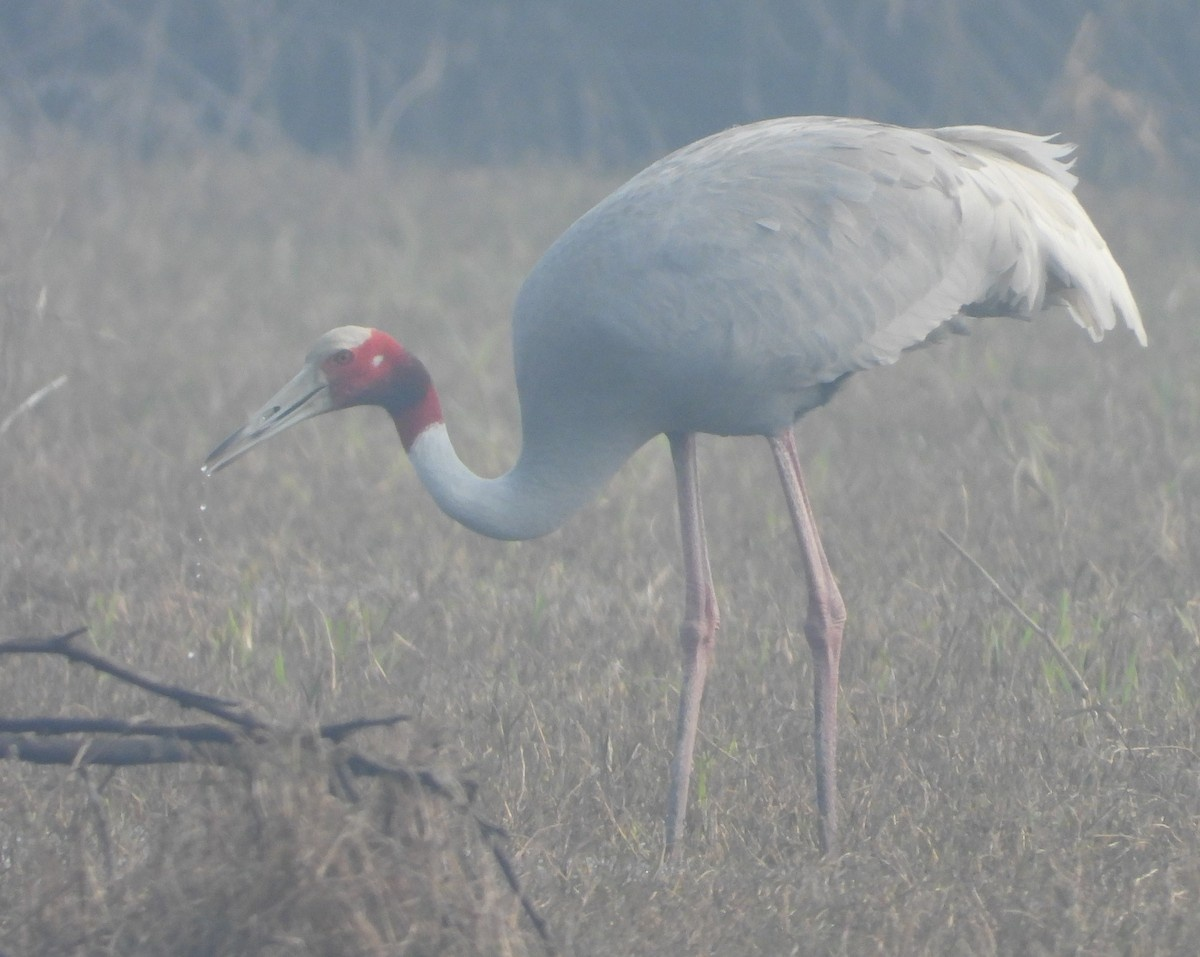crane: (200, 103, 1156, 852)
